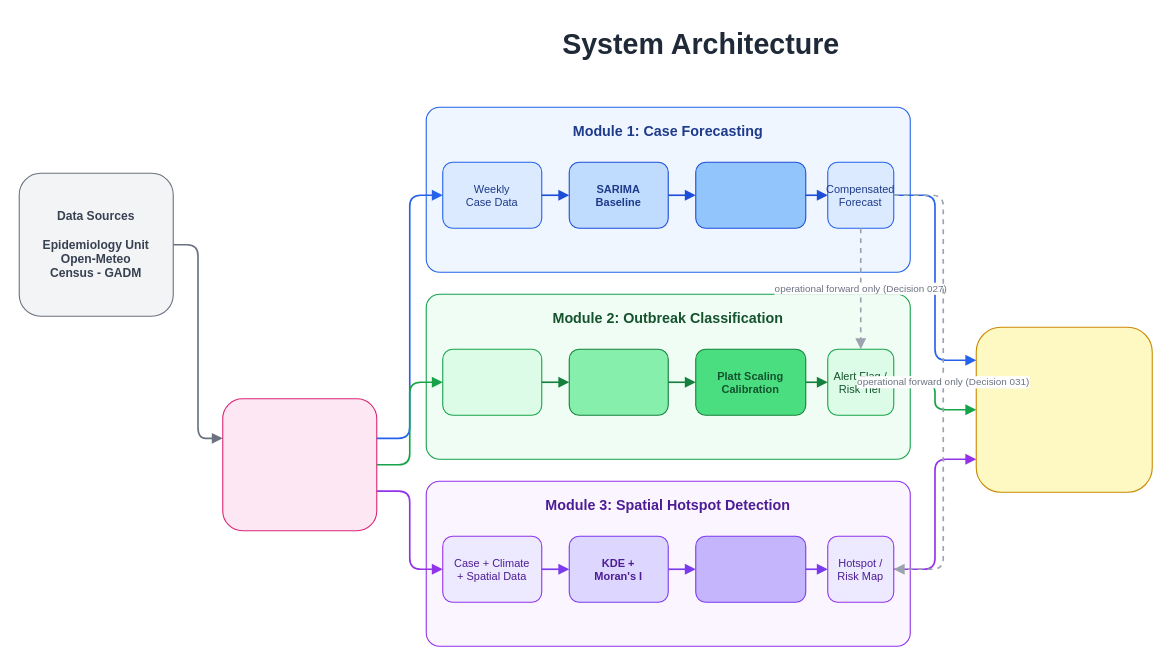
The diagram is 1172 pixels wide and 666 high, and some of its shapes have lost their labels. Here are the shapes that lost their labels. From the top down, the centre of each, then its label:
the point at 750,194: XGBoost Compensation (+ Climate)
the point at 492,381: Case + Climate Data
the point at 618,381: Random Forest Classifier
the point at 1063,409: Early-Warning Dashboard Forecast charts Risk alerts / tiers Hotspot maps
the point at 299,464: Shared Preprocessing (Decision 013)
the point at 750,568: Random Forest Spatial Residual
